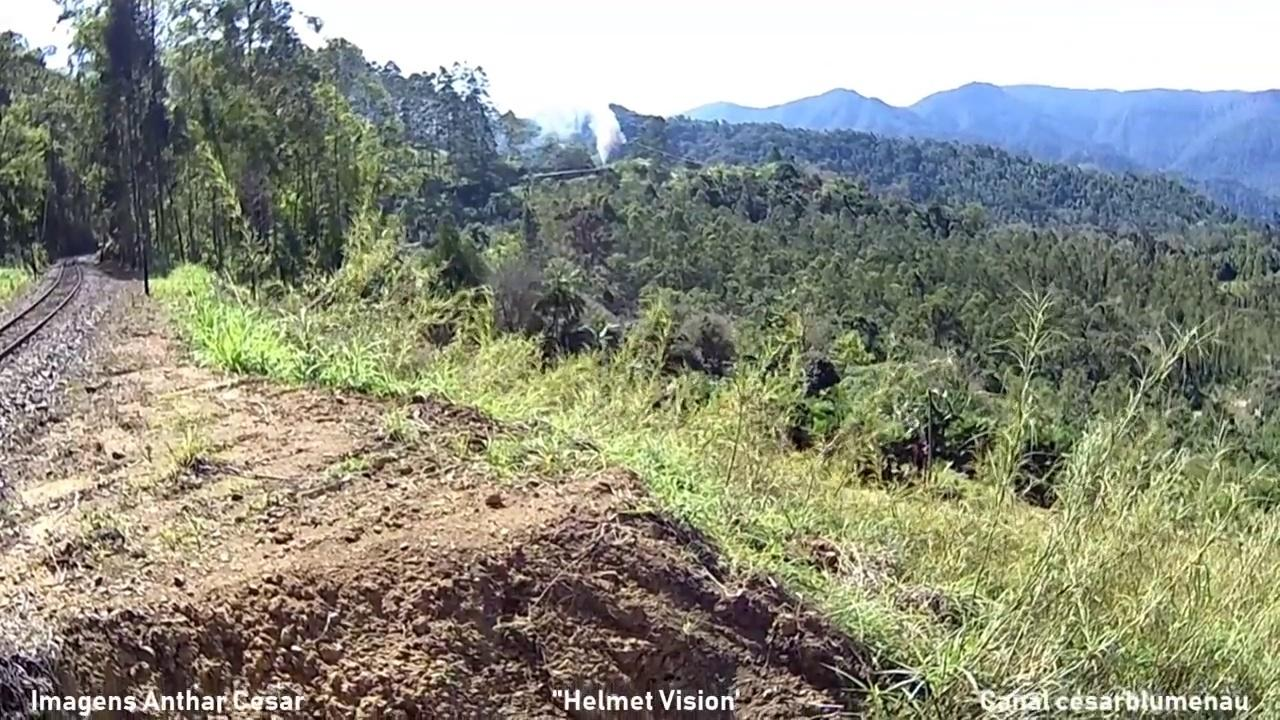Smoke: (550, 66, 634, 168)
